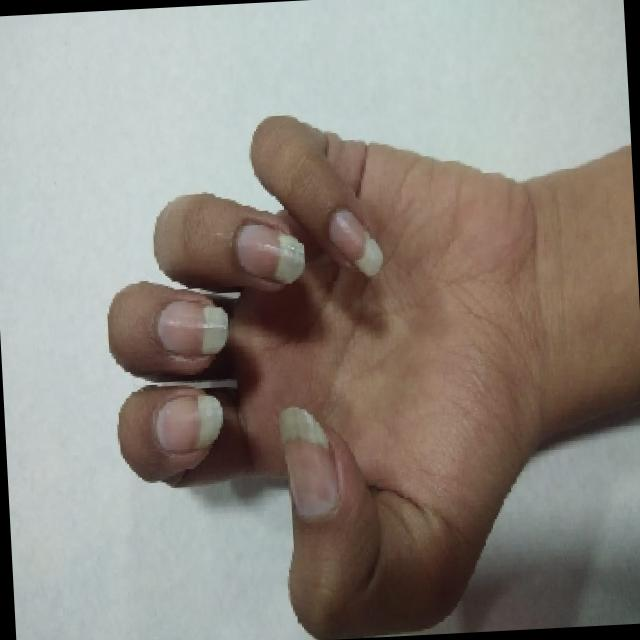Nail: (279, 407, 338, 517), (236, 225, 306, 283), (155, 394, 224, 452), (157, 301, 228, 356), (330, 209, 383, 276)
